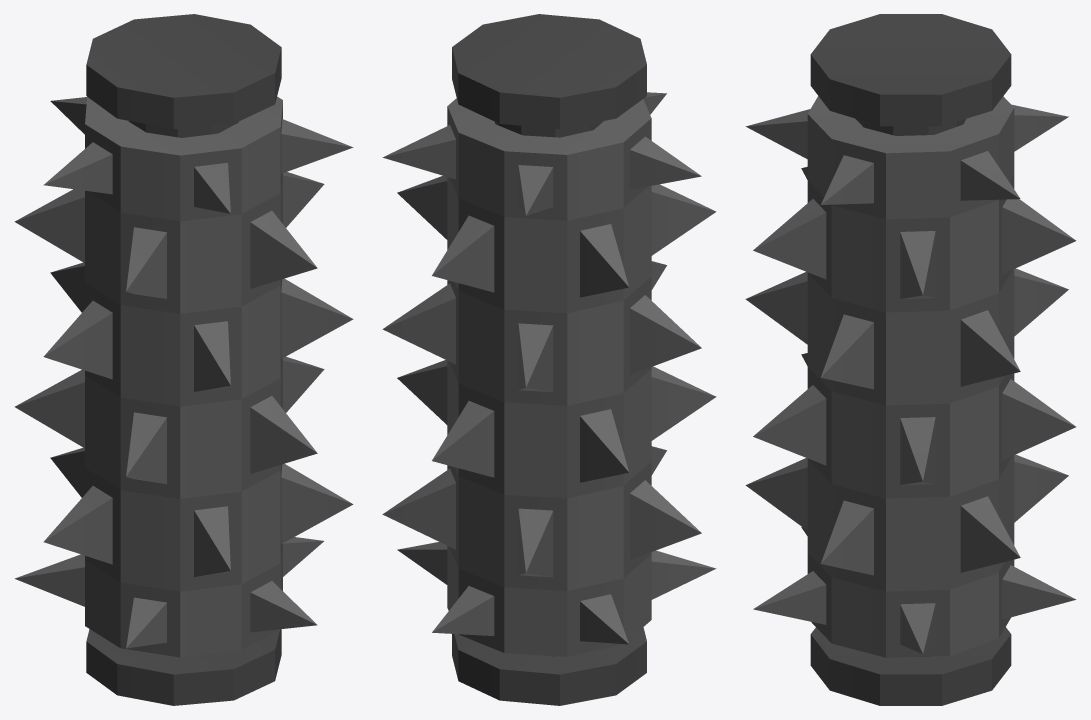
The model's file is Upright_Spines.fbx.
3 renders of one model, left to right at view 1: azimuth 30°, elevation 25°; view 2: azimuth 150°, elevation 25°; view 3: azimuth 270°, elevation 25°, orthographic.
Parts seen in each view (by area): view 1: Upright_Spine, Upright_Spines; view 2: Upright_Spine, Upright_Spines; view 3: Upright_Spine, Upright_Spines.
Boxes of the visible parts, x1,y1,x2,y2 form: Upright_Spine: (14, 96, 353, 657); Upright_Spines: (86, 14, 281, 705); Upright_Spine: (382, 92, 716, 656); Upright_Spines: (452, 14, 646, 705); Upright_Spine: (745, 96, 1076, 657); Upright_Spines: (810, 14, 1011, 705).
Size of the model in its own units: 65.47 by 130 by 63.7.
1 material, 1 textured.
